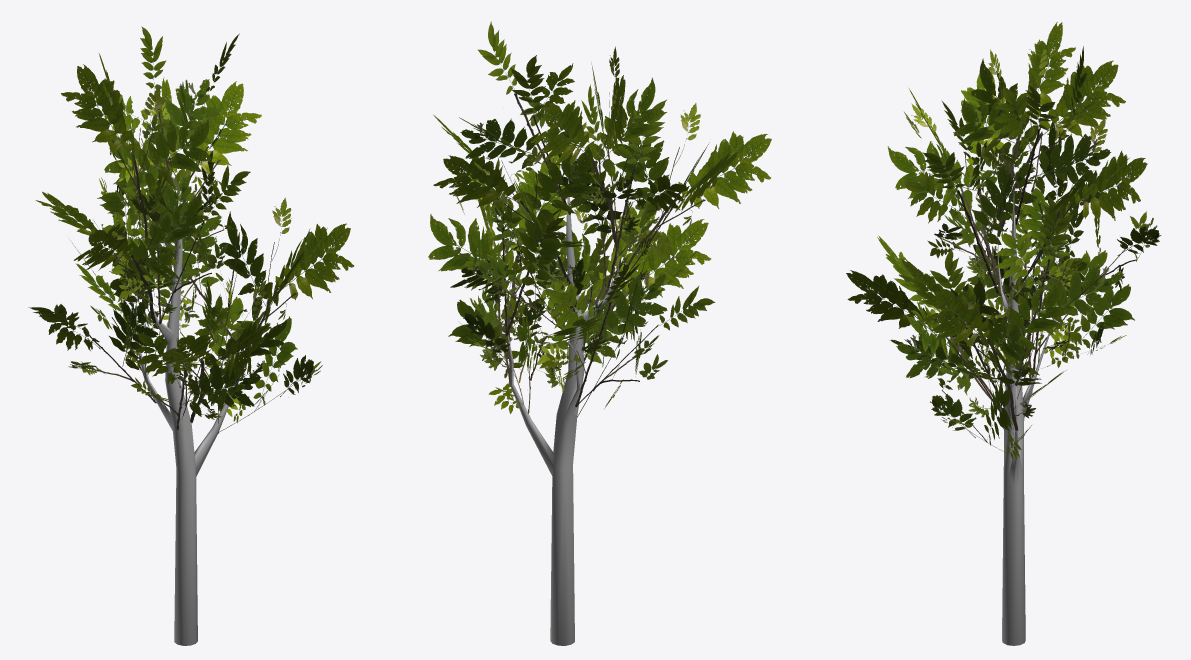
The model's file is Tree.fbx.
3 renders of one model, left to right at view 1: azimuth 30°, elevation 25°; view 2: azimuth 150°, elevation 25°; view 3: azimuth 270°, elevation 25°, orthographic. The views are drawn at different scales.
Parts seen in each view (by area): view 1: Tree; view 2: Tree; view 3: Tree.
Part boxes in pixels (x1,y1,x2,y2): Tree: [28, 26, 354, 645]; Tree: [428, 21, 771, 645]; Tree: [846, 22, 1161, 645].
Size of the model in its own units: 4.65 by 8.33 by 4.49.
Materials: 2 (1 with a texture image).
